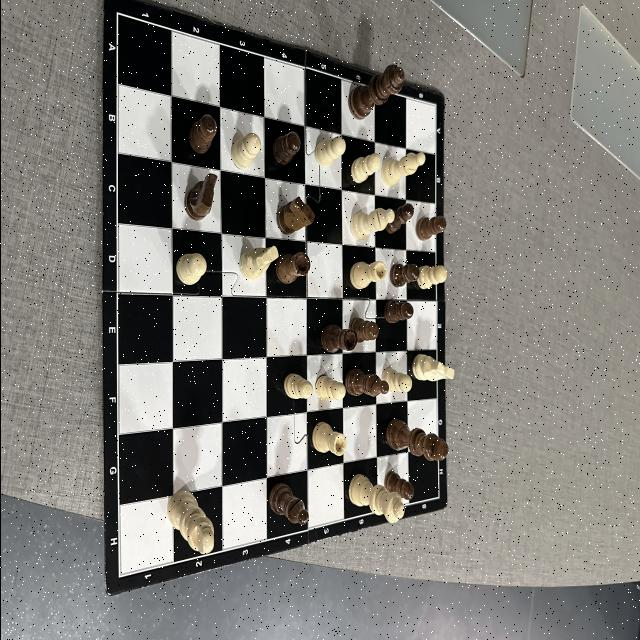Black-Bishop: (268, 483, 308, 525), (344, 368, 388, 396)
Black-King: (386, 418, 448, 462)
Black-Knight: (183, 173, 217, 221), (276, 196, 314, 235)
Black-Pawn: (187, 114, 216, 154), (272, 131, 300, 165), (383, 471, 413, 500), (384, 203, 412, 234), (414, 216, 446, 242), (348, 318, 378, 343), (388, 264, 418, 288), (382, 300, 412, 324)
Black-Queen: (348, 64, 404, 121)
Black-Rook: (274, 252, 310, 284), (320, 324, 356, 353)
White-Bishop: (380, 152, 424, 188), (349, 208, 394, 240)
White-King: (166, 490, 214, 554)
White-Knight: (238, 245, 278, 280), (411, 354, 453, 382)
White-Pawn: (230, 132, 260, 170), (174, 252, 206, 286), (314, 136, 345, 168), (350, 154, 380, 184), (314, 375, 344, 401), (282, 374, 312, 399), (416, 266, 446, 290), (381, 368, 411, 392)
White-Queen: (348, 474, 403, 524)
White-Rook: (312, 422, 346, 456), (348, 260, 386, 290)
